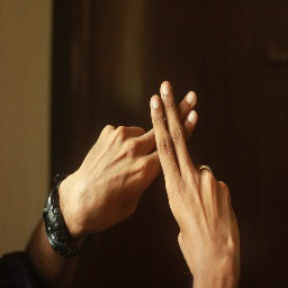F: (121, 73, 224, 195)
